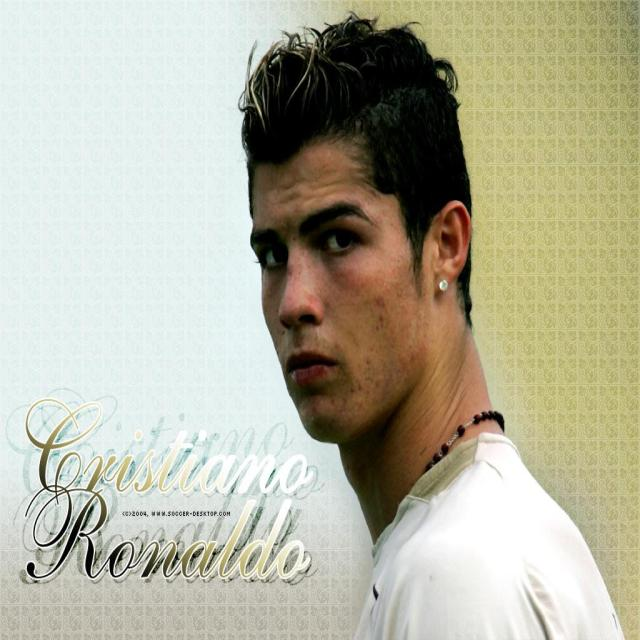Face: (248, 118, 433, 445)
